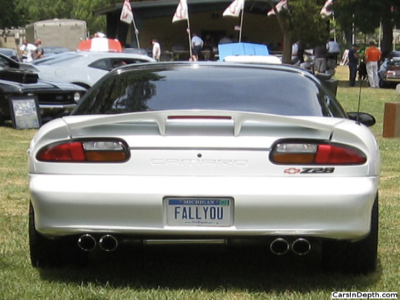licence: (167, 200, 232, 227)
